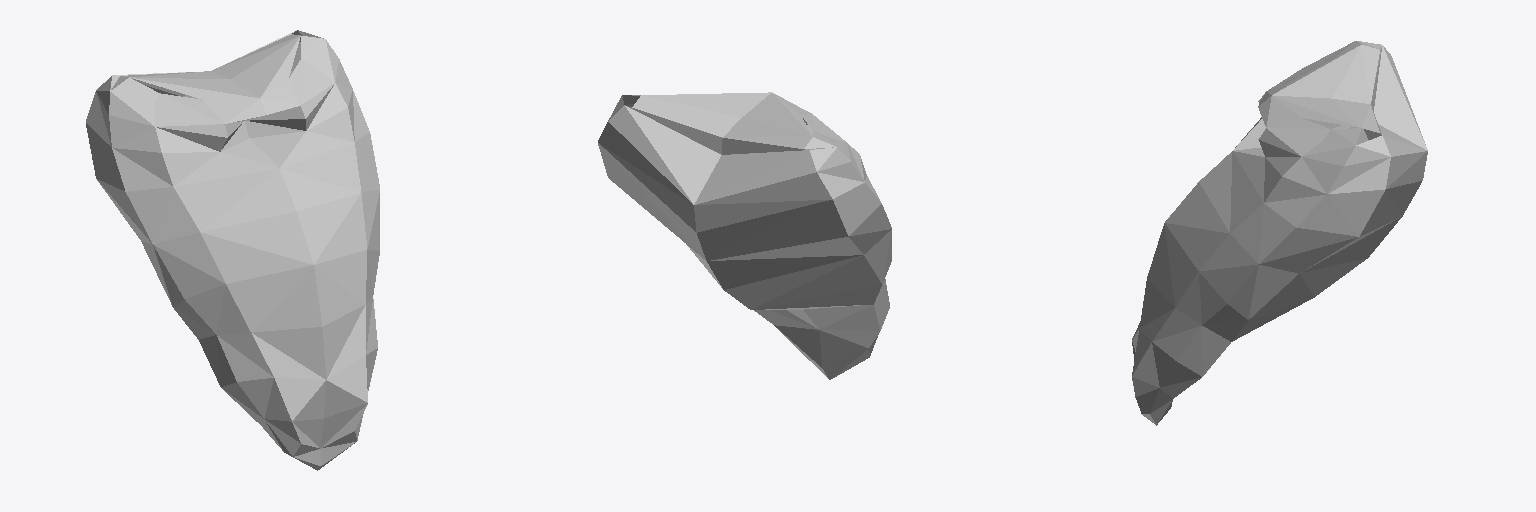
The model's file is dwarf_rigging_066_blender2_49_03_1.obj.
3 renders of one model, left to right at view 1: azimuth 30°, elevation 25°; view 2: azimuth 150°, elevation 25°; view 3: azimuth 270°, elevation 25°, orthographic.
Parts seen in each view (by area): view 1: body.001_Cube.000; view 2: body.001_Cube.000; view 3: body.001_Cube.000.
Boxes of the visible parts, <box> form: body.001_Cube.000: <box>86,30,379,470</box>; body.001_Cube.000: <box>598,92,891,379</box>; body.001_Cube.000: <box>1132,41,1427,425</box>.
Bounding box in the file's own units: 0.3028 × 0.4015 × 0.3178.